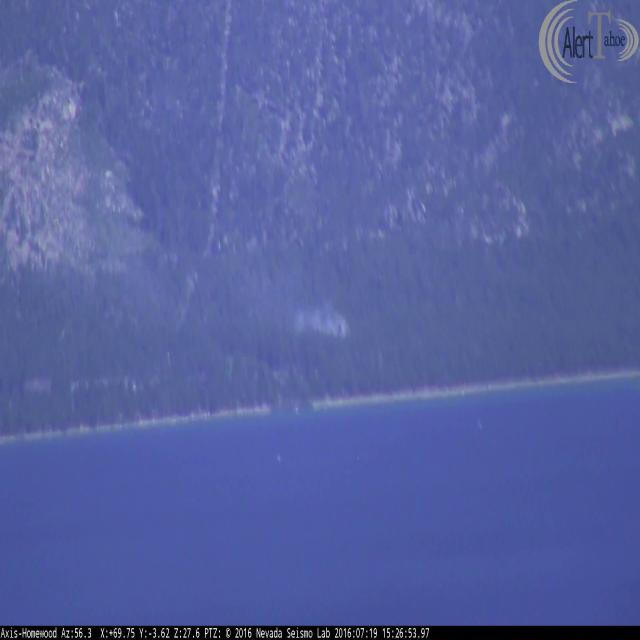smoke: (283, 286, 354, 345)
